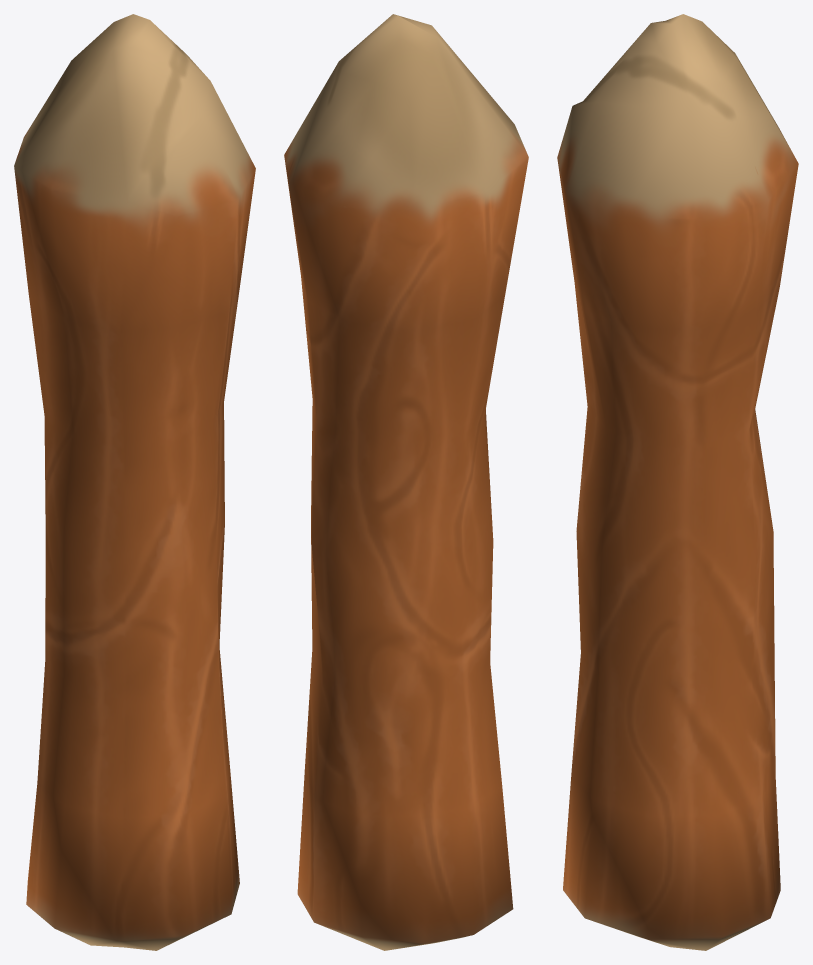
The model's file is fance5.fbx.
3 views of the same model, side by side, from view 1: azimuth 30°, elevation 25°; view 2: azimuth 150°, elevation 25°; view 3: azimuth 270°, elevation 25° (orthographic).
Visible parts, largest first — view 1: Retopo_Cube.010; view 2: Retopo_Cube.010; view 3: Retopo_Cube.010.
Boxes of the visible parts, x1,y1,x2,y2 form: Retopo_Cube.010: (14,14,255,950); Retopo_Cube.010: (284,14,528,950); Retopo_Cube.010: (557,14,798,950).
Bounding box in the file's own units: 117 × 490 × 117.
